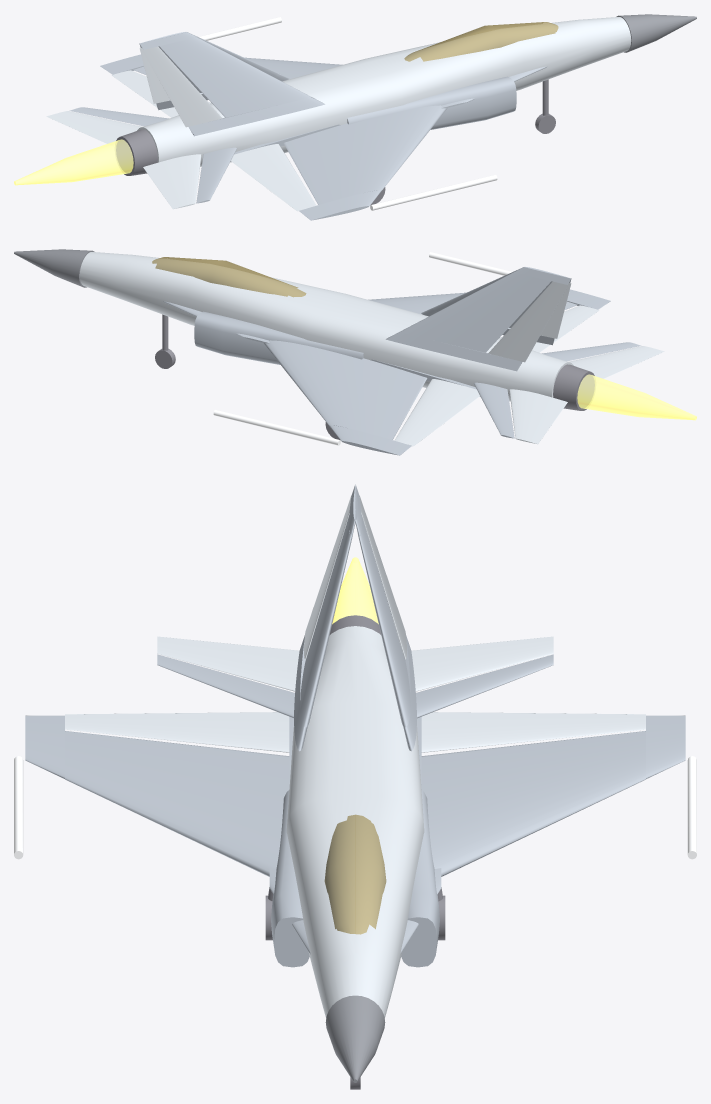
File: hornet.glb
The picture shows the model from 3 angles, top to bottom: view 1: azimuth 30°, elevation 25°; view 2: azimuth 150°, elevation 25°; view 3: azimuth 270°, elevation 25°; orthographic projection. The views are drawn at different scales.
Parts seen in each view (by area): view 1: body, burner, flaperonR, rudderR, elevatorR, elevatorL, flaperonL, gear, rudderL; view 2: body, burner, flaperonL, rudderL, elevatorL, elevatorR, flaperonR, gear, rudderR; view 3: body, flaperonL, flaperonR, elevatorL, elevatorR, burner, rudderL, rudderR.
Boxes of the visible parts, x1=… form: body: x1=70, y1=14, x2=696, y2=220; burner: x1=14, y1=139, x2=133, y2=185; flaperonR: x1=231, y1=144, x2=316, y2=211; rudderR: x1=142, y1=46, x2=222, y2=127; elevatorR: x1=143, y1=154, x2=201, y2=209; elevatorL: x1=46, y1=111, x2=142, y2=143; flaperonL: x1=111, y1=70, x2=211, y2=117; gear: x1=371, y1=79, x2=555, y2=204; rudderL: x1=139, y1=48, x2=170, y2=103; body: x1=14, y1=249, x2=640, y2=455; burner: x1=577, y1=374, x2=696, y2=420; flaperonL: x1=394, y1=379, x2=479, y2=446; rudderL: x1=488, y1=281, x2=568, y2=362; elevatorL: x1=509, y1=389, x2=567, y2=444; elevatorR: x1=568, y1=346, x2=664, y2=378; flaperonR: x1=499, y1=305, x2=599, y2=352; gear: x1=155, y1=314, x2=339, y2=439; rudderR: x1=540, y1=283, x2=571, y2=338; body: x1=14, y1=484, x2=696, y2=1082; flaperonL: x1=421, y1=712, x2=645, y2=752; flaperonR: x1=65, y1=712, x2=289, y2=752; elevatorL: x1=411, y1=636, x2=553, y2=691; elevatorR: x1=157, y1=636, x2=299, y2=691; burner: x1=332, y1=557, x2=378, y2=624; rudderL: x1=359, y1=495, x2=406, y2=659; rudderR: x1=304, y1=495, x2=351, y2=659.
Bounding box in the file's own units: 18.62 × 4.98 × 10.34.
